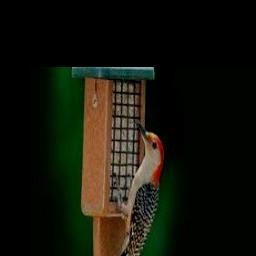Woodpecker: (104, 119, 164, 256)
